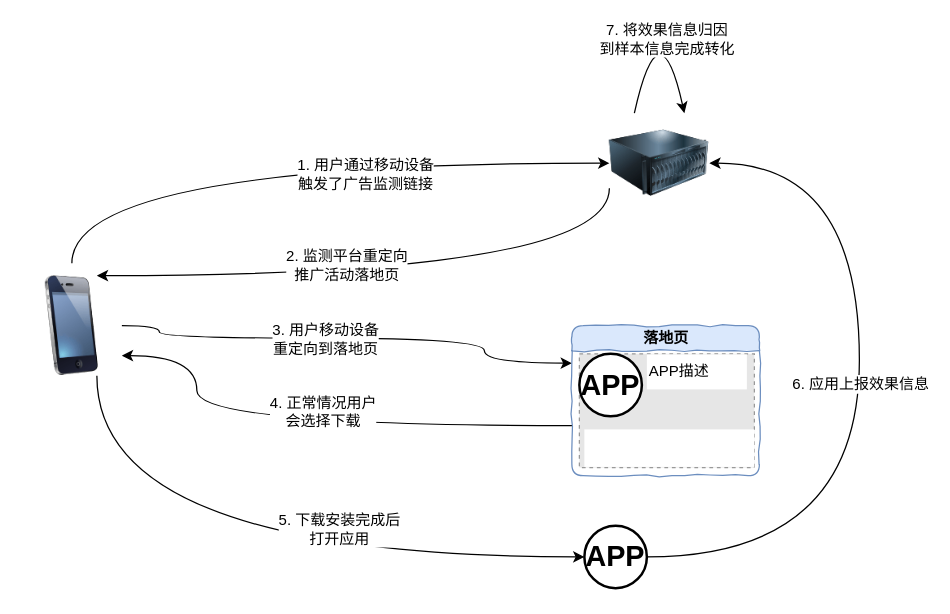
The diagram is 950 pixels wide and 614 high, and some of its shapes have lost their labels. Grey dashed boxes stand in for pictures. The box of each missing label's shape, as (x1, y1, x2, y2) in pixels:
功能描述: (584, 429, 754, 466)
广告监测平台: (609, 112, 709, 212)
